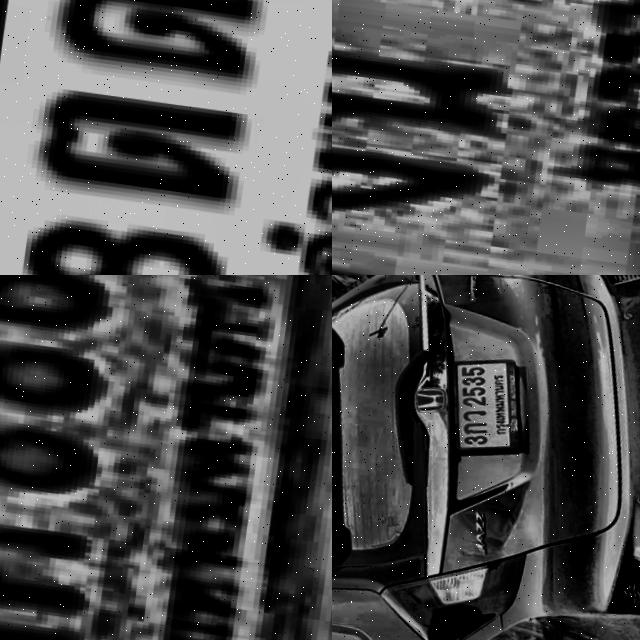license-plate: (0, 275, 332, 640), (0, 0, 332, 275), (332, 0, 640, 275), (438, 348, 537, 463)
